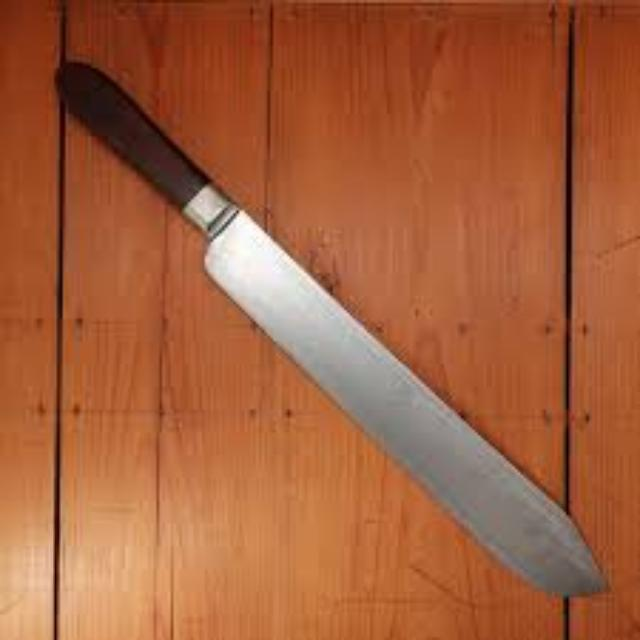Knife: (54, 57, 608, 597)
